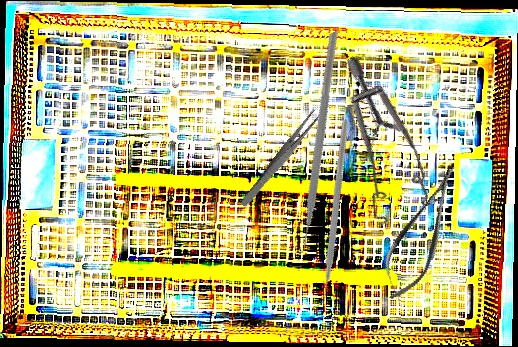Chopper: (207, 30, 416, 261), (244, 118, 414, 312)
Dressing Forceps: (239, 108, 322, 210)
Micro Scissor: (369, 157, 475, 308)
Speculum: (279, 54, 472, 245)
